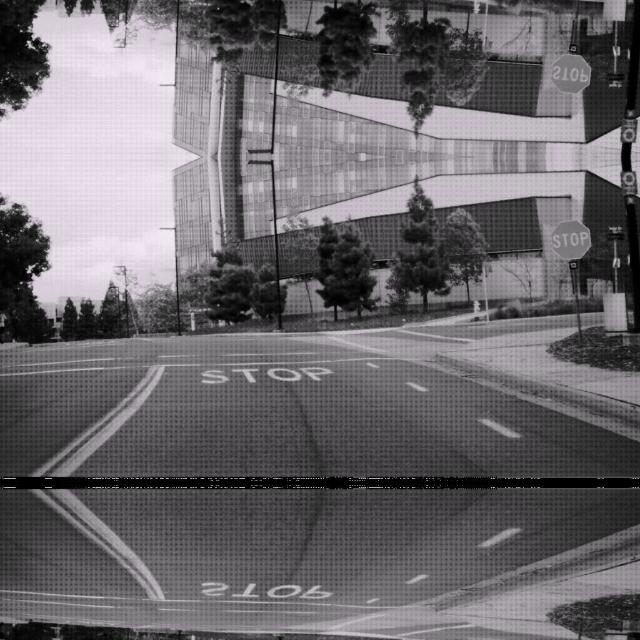stop: (550, 218, 590, 258), (550, 54, 590, 94)
